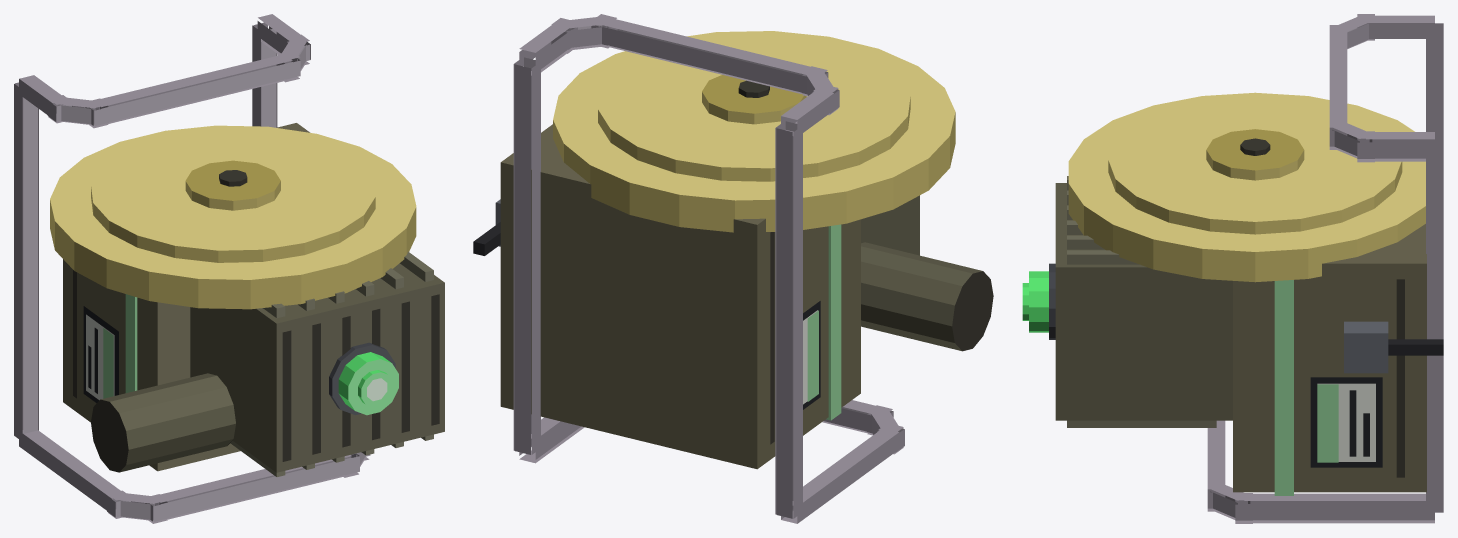
The model's file is backup_ground_old_on_S.obj.
3 views of the same model, side by side, from view 1: azimuth 30°, elevation 25°; view 2: azimuth 150°, elevation 25°; view 3: azimuth 270°, elevation 25° (orthographic). The views are drawn at different scales.
Visible parts, largest first — view 1: backup_ground_old_on_S; view 2: backup_ground_old_on_S; view 3: backup_ground_old_on_S.
Part boxes in pixels (x1,y1,x2,y2): backup_ground_old_on_S: (14, 14, 444, 523); backup_ground_old_on_S: (473, 14, 993, 523); backup_ground_old_on_S: (1022, 14, 1443, 523).
Bounding box in the file's own units: 0.71 × 0.767 × 0.7605.
1 material, 1 textured.
